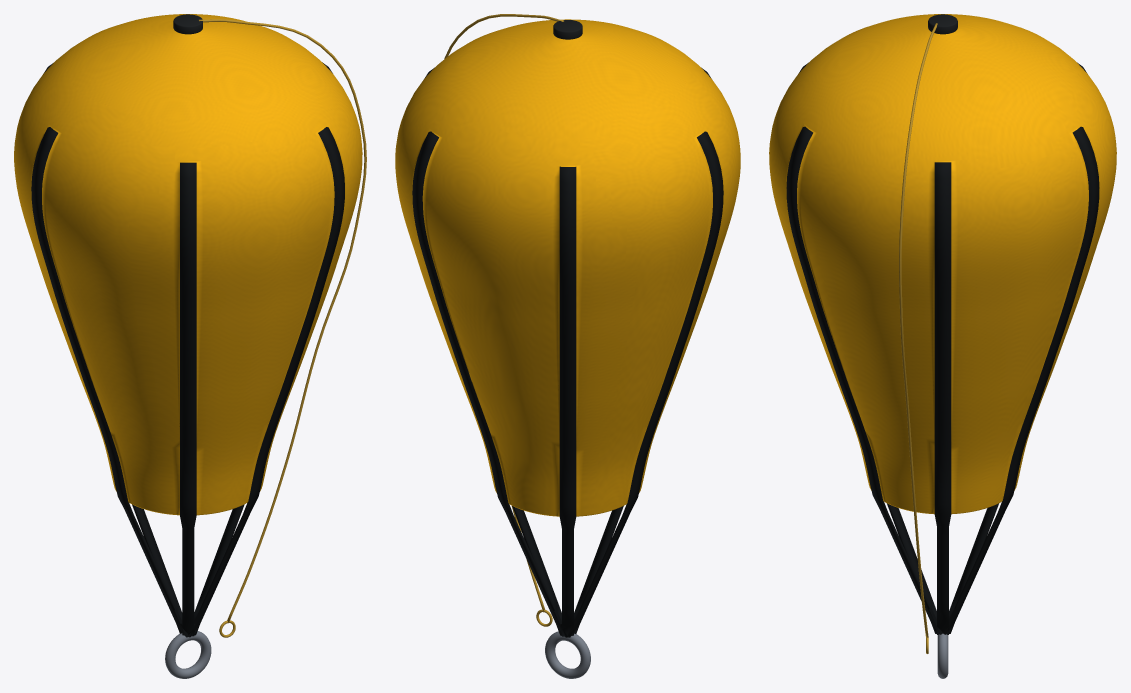
The model's file is NEW691_LiftBag_LOD0.fbx.
3 views of the same model, side by side, from view 1: azimuth 30°, elevation 25°; view 2: azimuth 150°, elevation 25°; view 3: azimuth 270°, elevation 25° (orthographic).
Visible parts, largest first — view 1: Open_bottom_cloth_with_six_harness_legs, External_dump_pull_line, Single_vertical_metal_load_ring, External_top_dump_valve; view 2: Open_bottom_cloth_with_six_harness_legs, Single_vertical_metal_load_ring, External_dump_pull_line, External_top_dump_valve; view 3: Open_bottom_cloth_with_six_harness_legs, External_dump_pull_line, Single_vertical_metal_load_ring.
Boxes of the visible parts, x1,y1,x2,y2 form: Open_bottom_cloth_with_six_harness_legs: (14,14,362,637); External_dump_pull_line: (198,19,366,623); Single_vertical_metal_load_ring: (165,631,211,678); External_top_dump_valve: (173,14,202,34); Open_bottom_cloth_with_six_harness_legs: (395,19,740,637); Single_vertical_metal_load_ring: (545,631,590,678); External_dump_pull_line: (444,14,563,612); External_top_dump_valve: (553,20,582,39); Open_bottom_cloth_with_six_harness_legs: (769,14,1116,634); External_dump_pull_line: (899,23,937,637); Single_vertical_metal_load_ring: (937,633,948,678).
Bounding box in the file's own units: 1.03 × 2.1 × 1.01.
5 materials, 5 textured.
